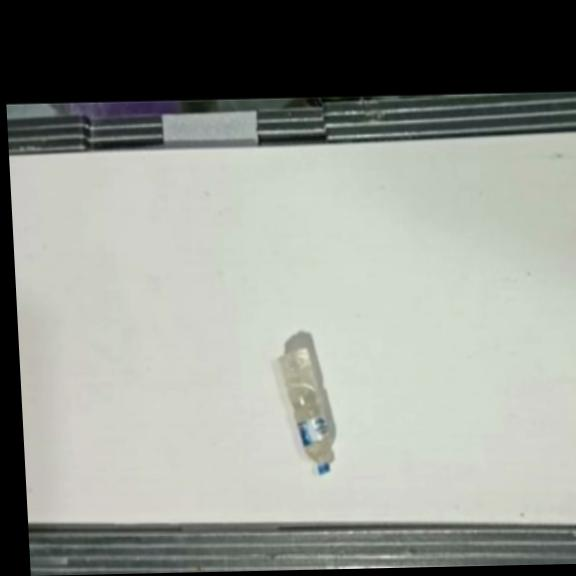Plastik: (273, 344, 334, 476)
